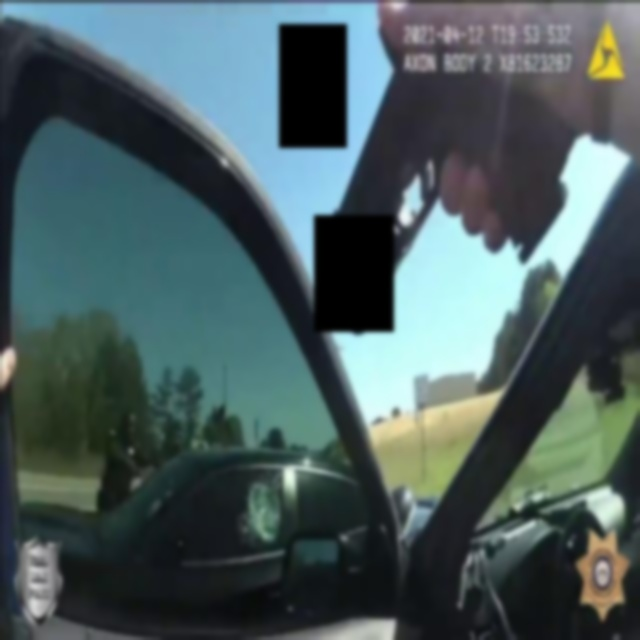gun: (128, 460, 144, 481)
